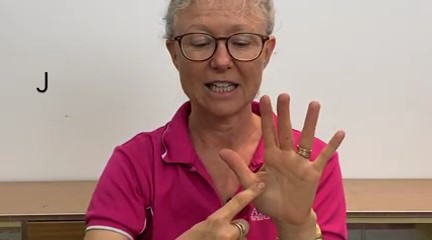J: (198, 86, 361, 236)
